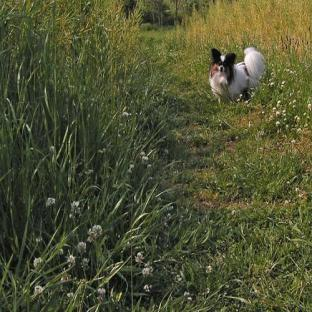Animal: (209, 47, 265, 99)
